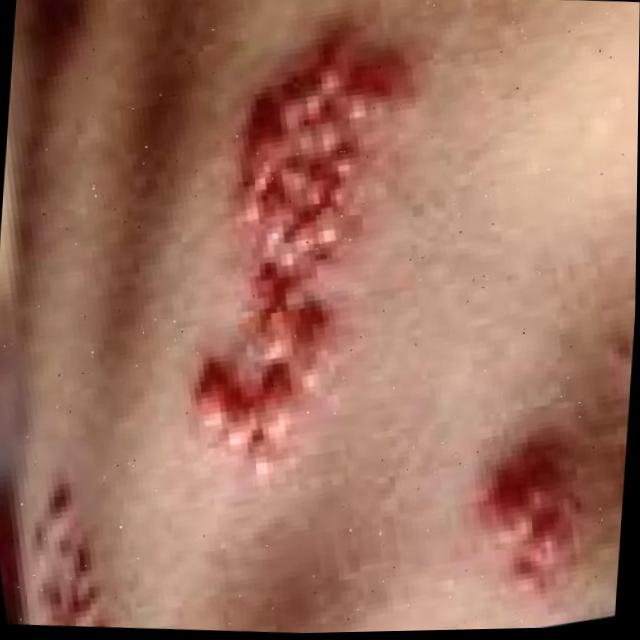Shingles: (180, 24, 413, 479), (475, 434, 576, 604)
